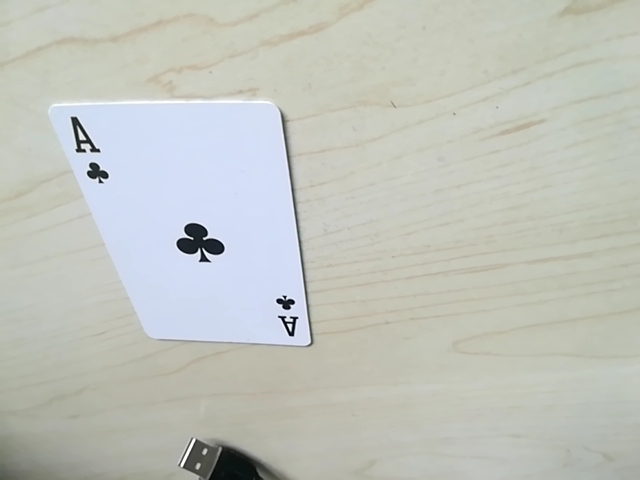mh a: (66, 116, 112, 189), (272, 289, 303, 347)
